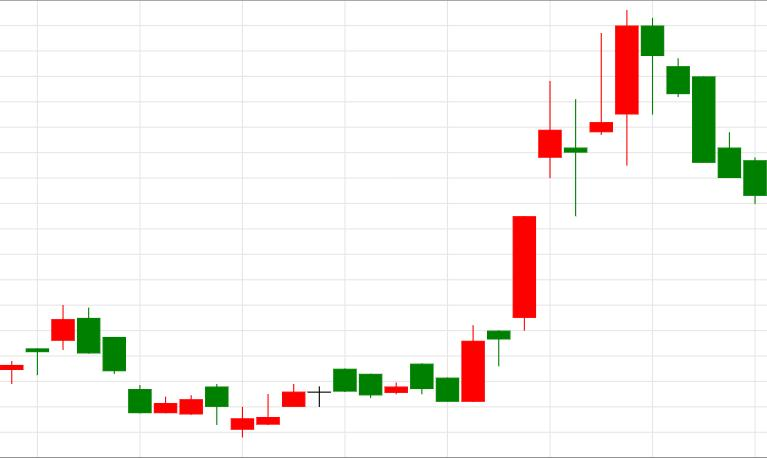hanging_man_fall: (462, 11, 664, 402)
shooting_star_fall: (436, 80, 562, 402)
